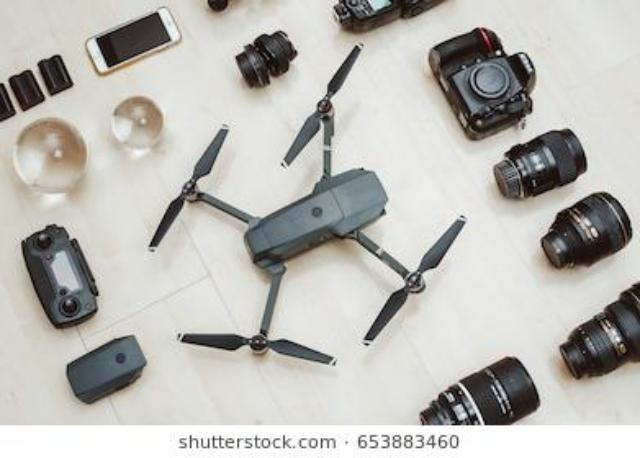drone: (132, 28, 478, 392)
